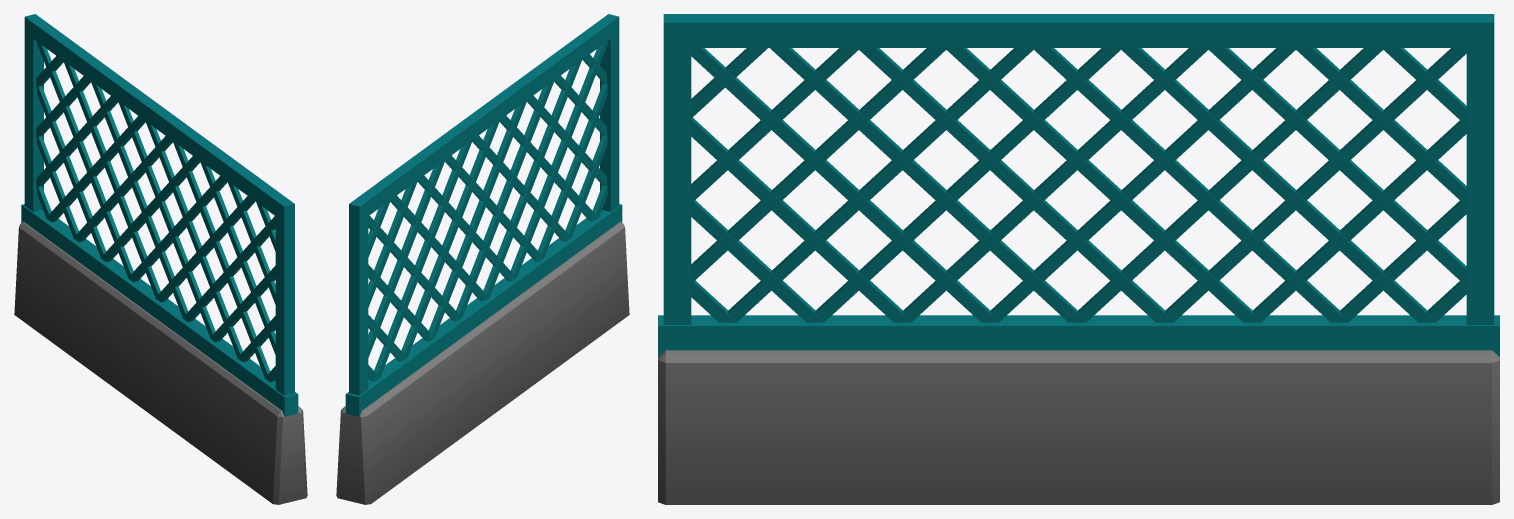
File: Fence_1_C_6.fbx
3 views of the same model, side by side, from view 1: azimuth 30°, elevation 25°; view 2: azimuth 150°, elevation 25°; view 3: azimuth 270°, elevation 25° (orthographic). The views are drawn at different scales.
Parts seen in each view (by area): view 1: Fence_1_C_6; view 2: Fence_1_C_6; view 3: Fence_1_C_6.
Part boxes in pixels (box(x1,y1,x2,y2)): Fence_1_C_6: box(14, 14, 307, 504); Fence_1_C_6: box(336, 14, 629, 504); Fence_1_C_6: box(658, 14, 1499, 504).
Bounding box in the file's own units: 30.52 × 248 × 400.
